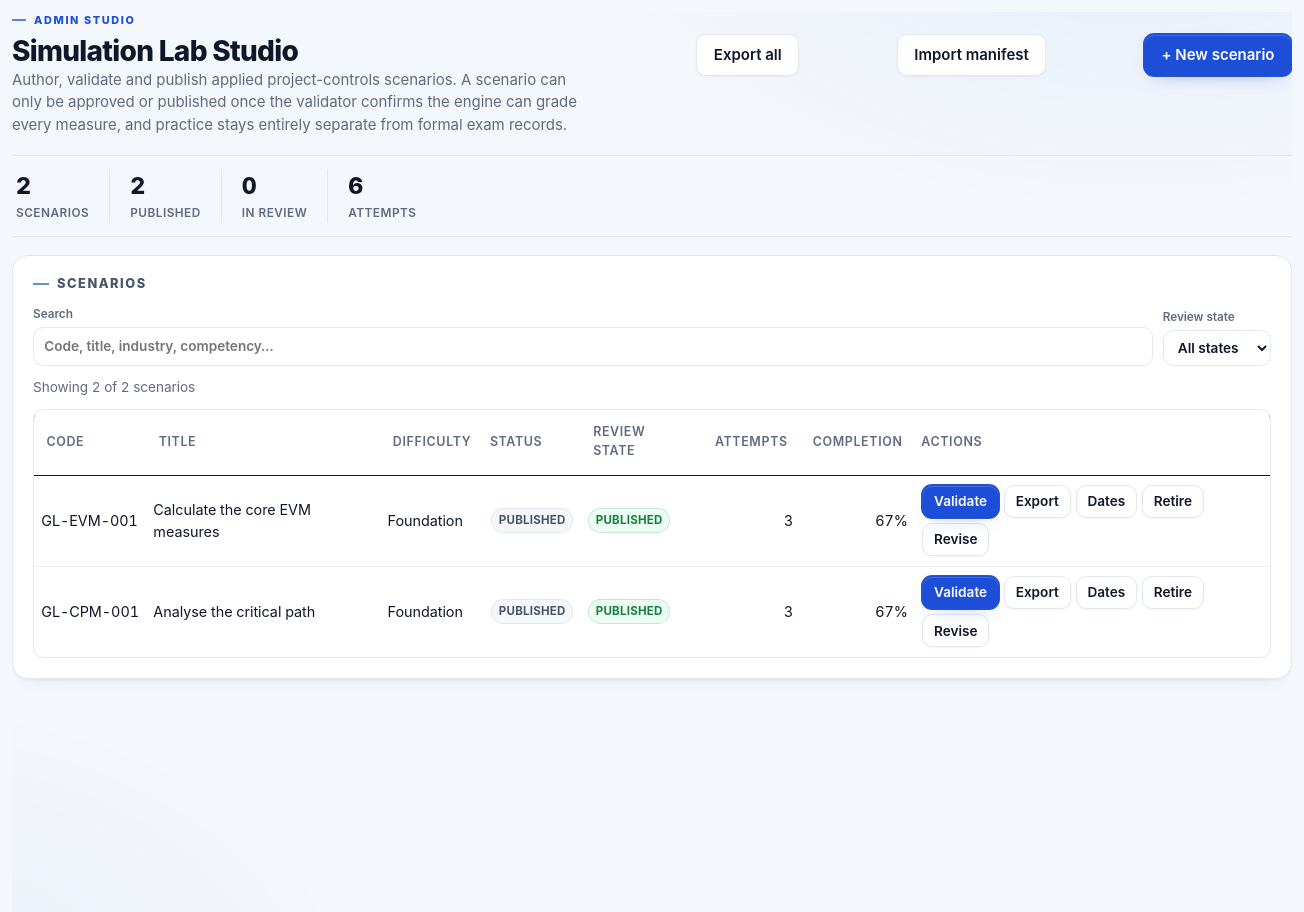
Admin SimLab Studio › filters the scenario table by search text and announces the result count
The width and height of the screenshot is (1304, 912).
Expected: the message reads "Showing 2 of 2 scenarios", [33, 379, 195, 395]
Type "critical path" into the field named "Search scenarios".
click(593, 347); type("critical path")  # box [33, 327, 1153, 366]
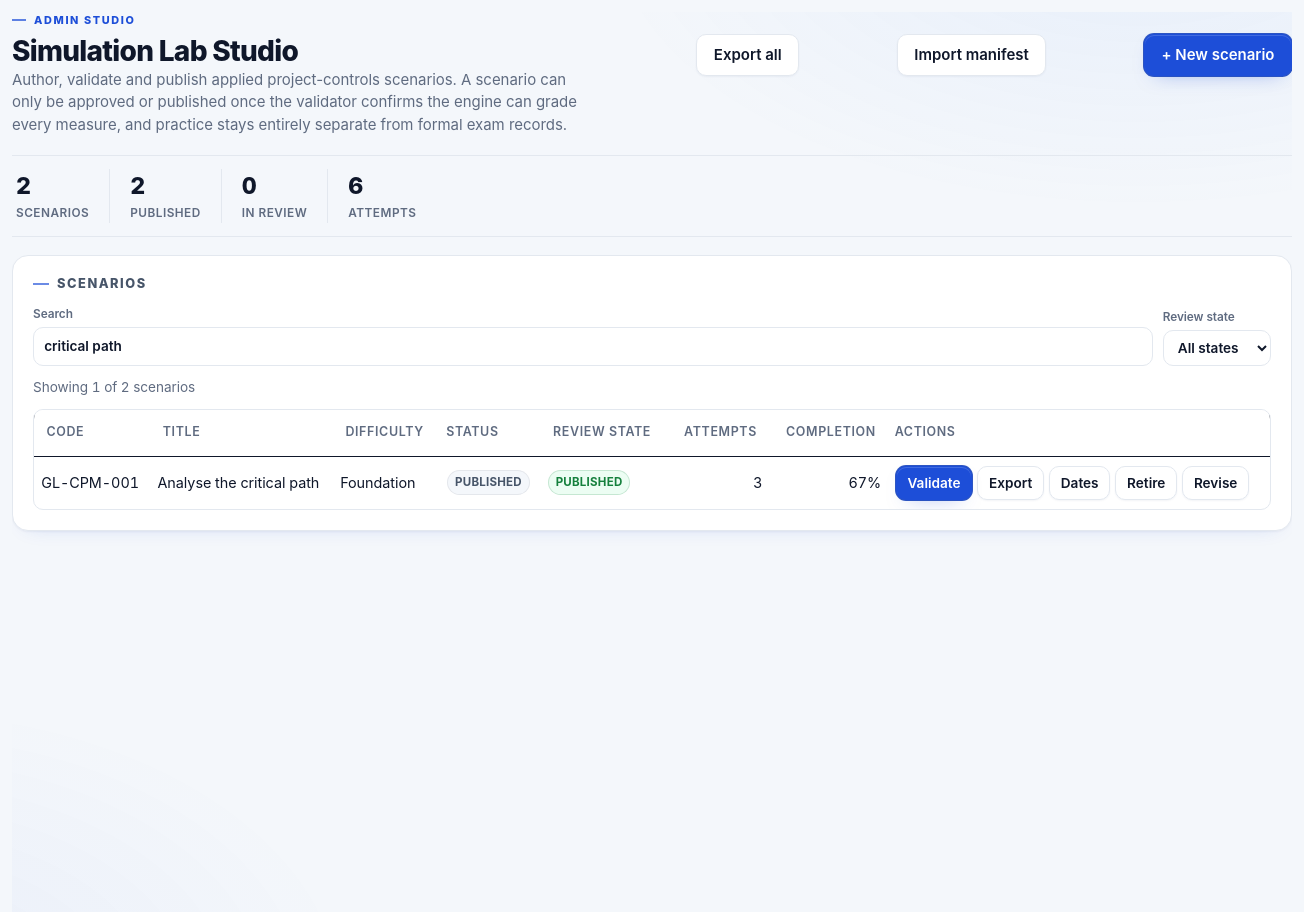
Expected: the text "Analyse the critical path" is shown, [150, 456, 333, 509]
Expected: the message reads "Showing 1 of 2 scenarios", [33, 379, 195, 395]
Expected: the text "Calculate the core EVM measures" is gone
